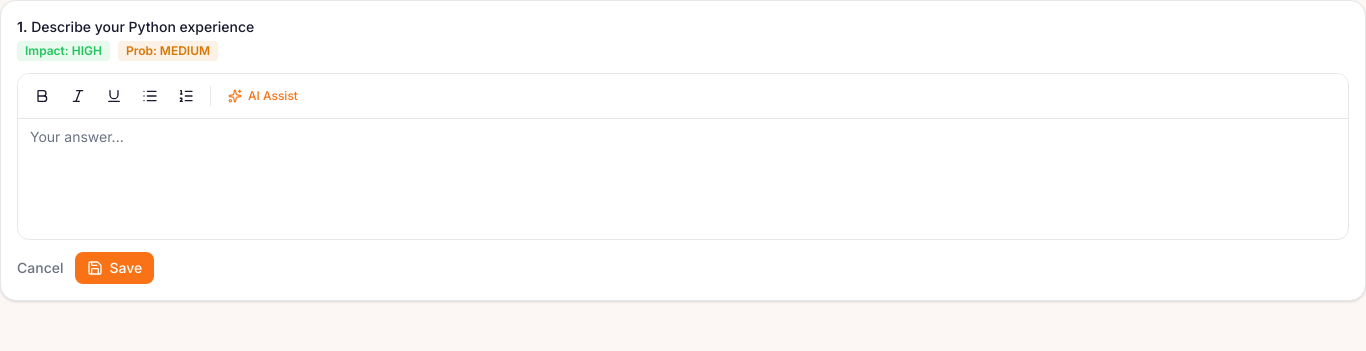
Test case: GapQuestionCard › shows error message and re-enables Save on failure
Click the button "Save".
click(115, 268)  # box [76,252,154,284]
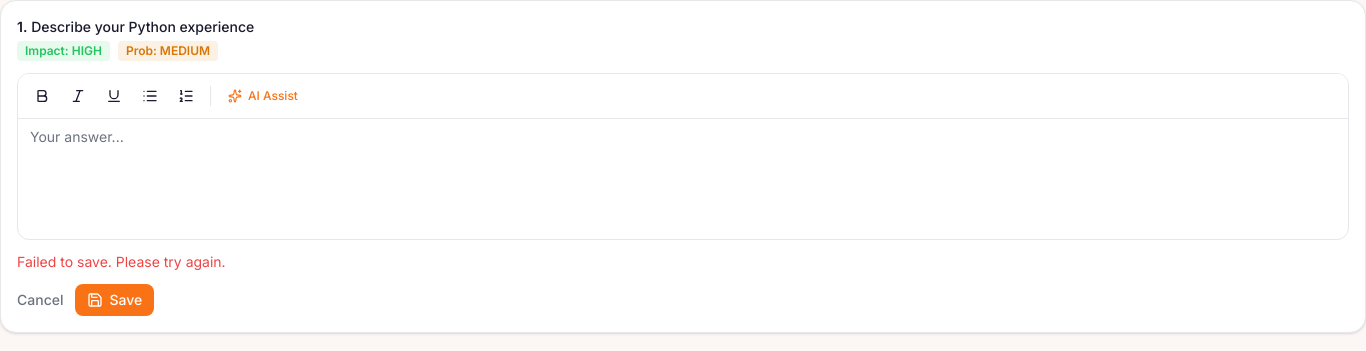
Expected: the button "Save" is enabled, [76,284,154,316]
Expected: the text "Failed to save. Please try again." is shown, [17,253,226,270]
